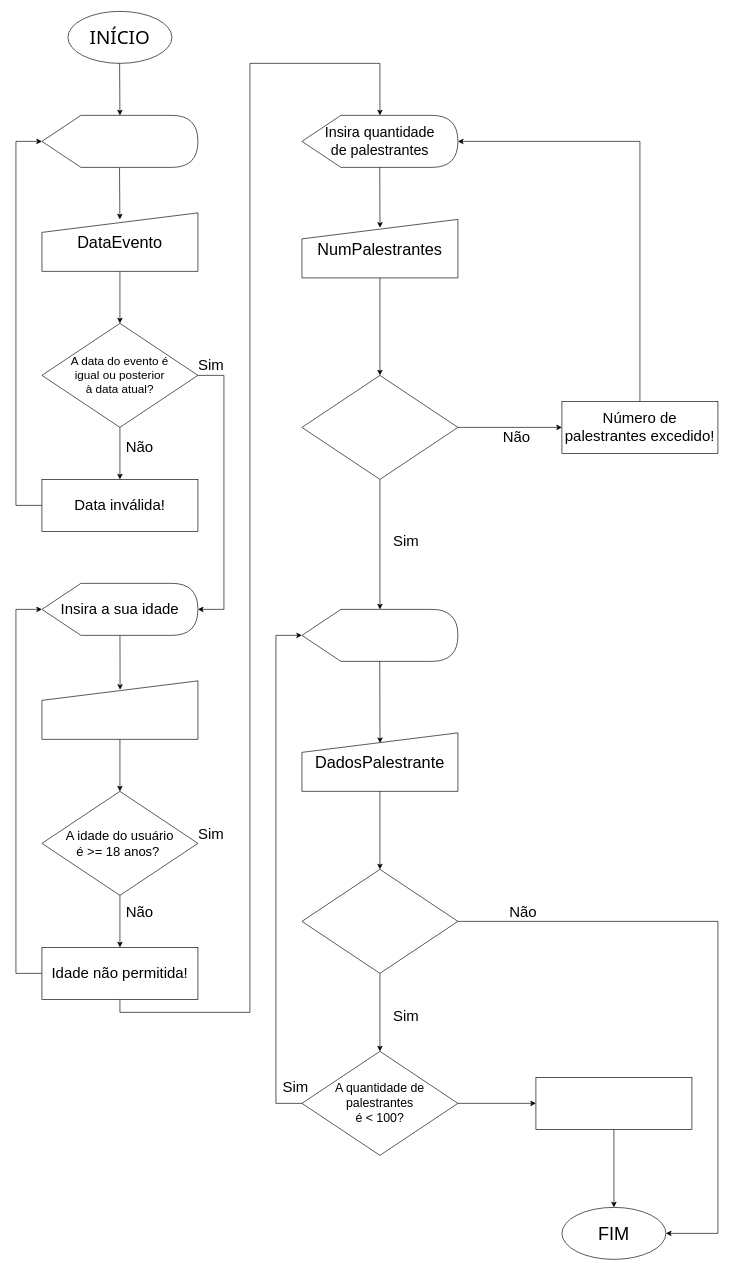
This 735x1271 diagram has some shape labels left out. The box of each missing label's shape, as (x1, y1, x2, y2) in pixels:
A quantidade de palestrantes é <= 100?: (301, 375, 458, 479)
Continuar com cadastro?: (301, 869, 458, 973)
IdadeUsuario: (41, 680, 198, 739)
Insira a data do evento: (41, 115, 198, 167)
Insira os dados do palestrante: (301, 609, 458, 661)
Você atingiu o número máximo de palestrantes cadastrados!: (535, 1077, 692, 1129)
